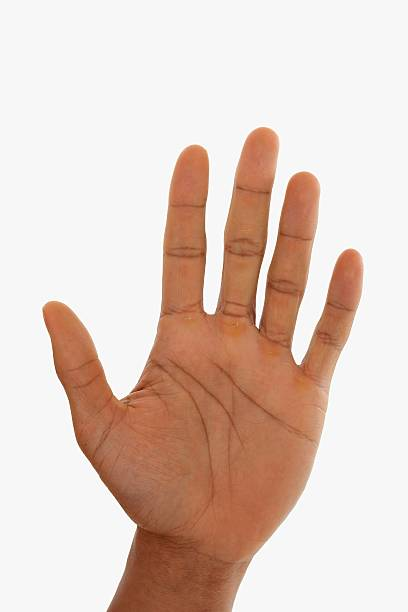hand: (35, 123, 377, 580)
